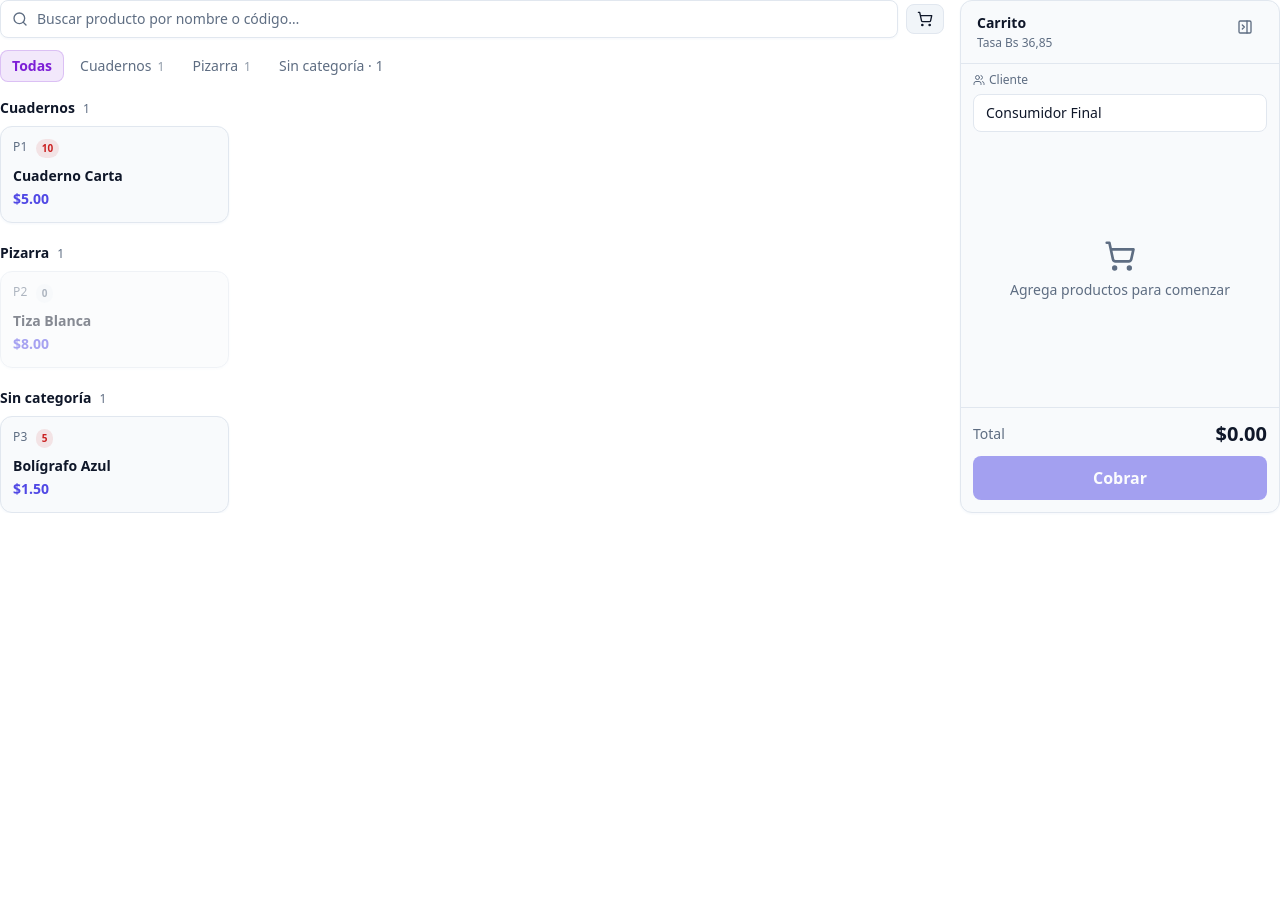
Scenario: VentaPage › rechaza una cantidad superior al stock disponible
Expected: the text "Cuaderno Carta" is shown, [13, 166, 123, 186]
Click the button "P1 10 Cuaderno Carta $5.00".
click(114, 174)  # box [0, 126, 229, 223]
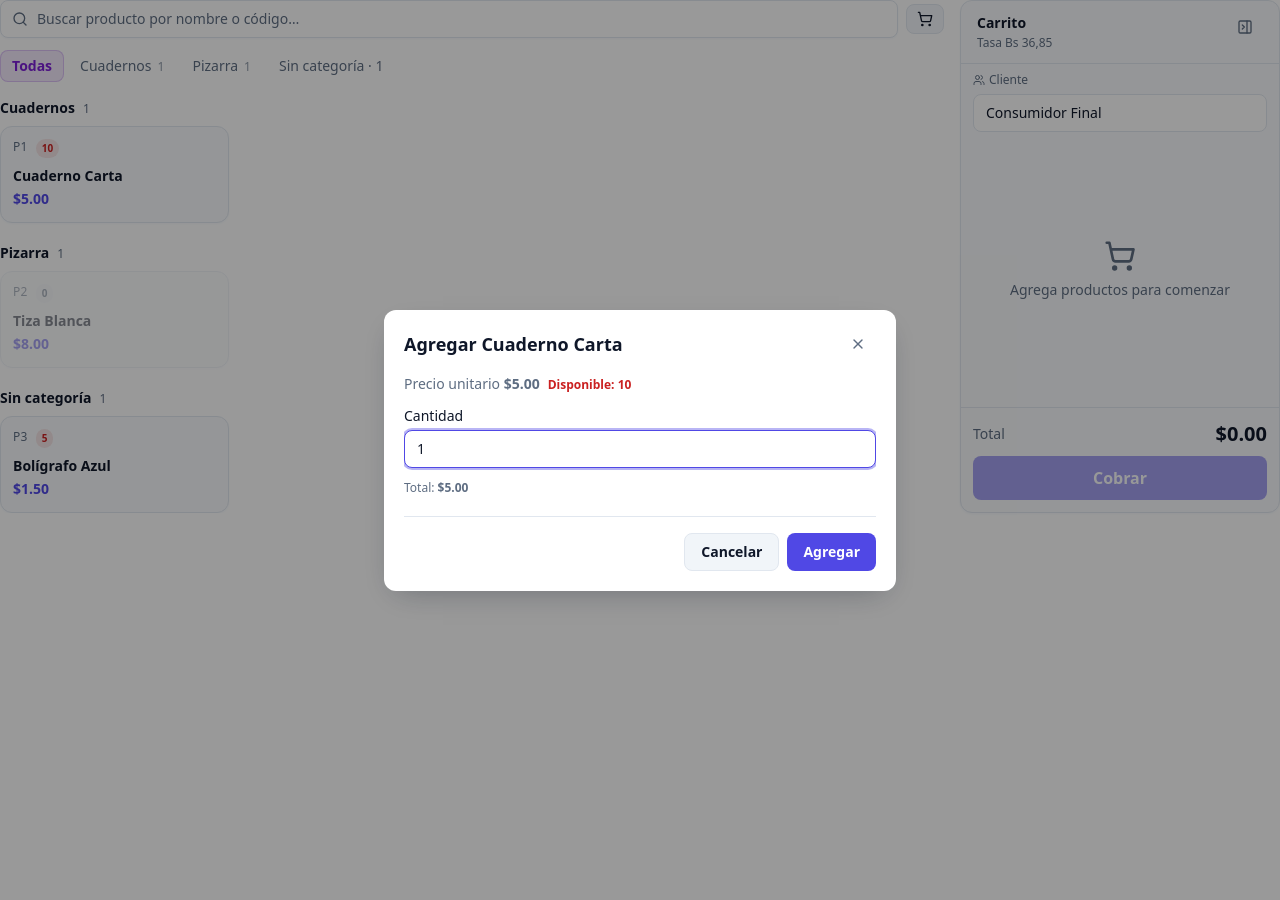
Clear the field labelled "Cantidad" at (640, 448), box [404, 430, 876, 468]
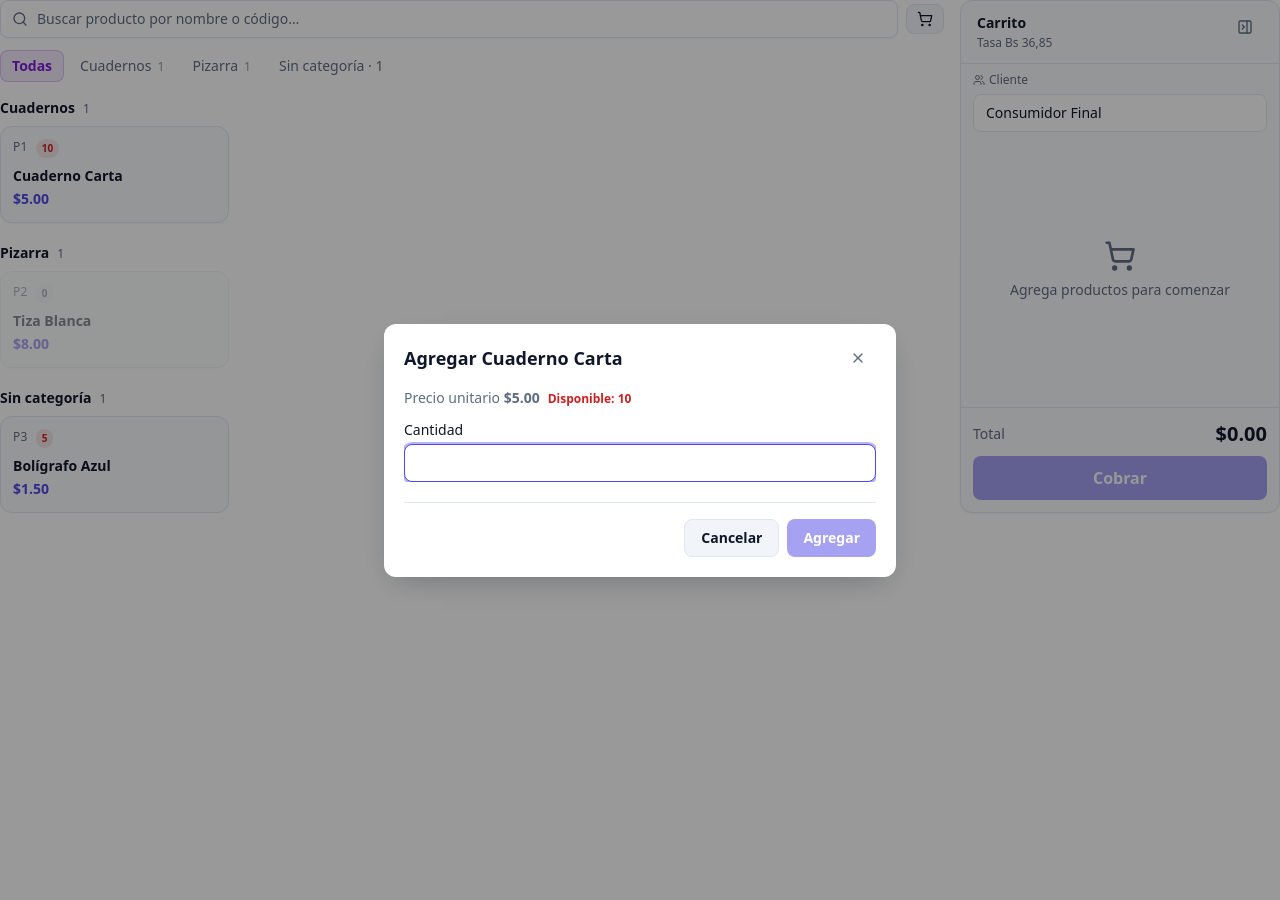
Type "11" into the field labelled "Cantidad".
click(640, 462); type("11")  # box [404, 444, 876, 482]
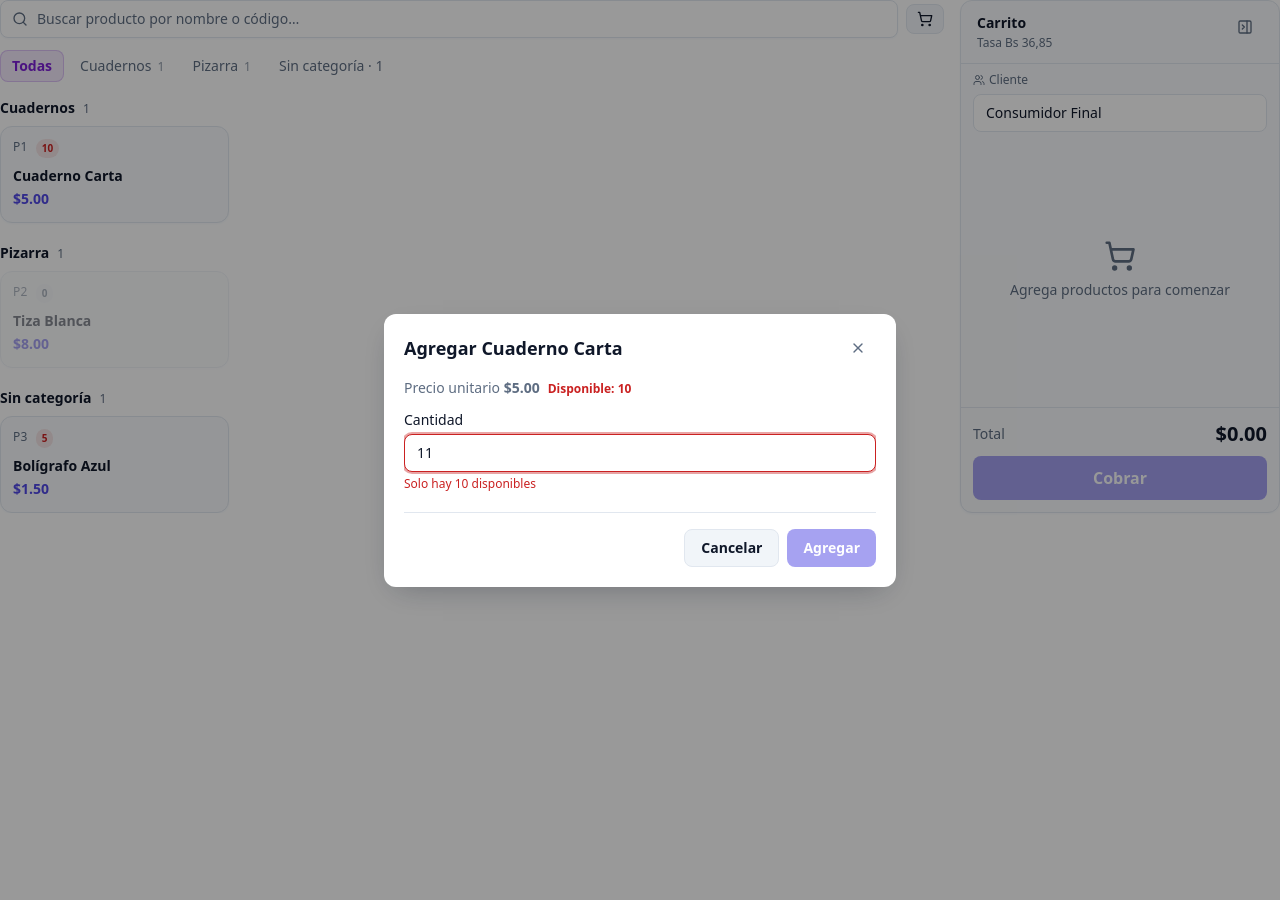
Now the button "Agregar" is disabled, box [788, 528, 876, 566]
Now the text "Solo hay 10 disponibles" is shown, box [404, 474, 536, 492]
